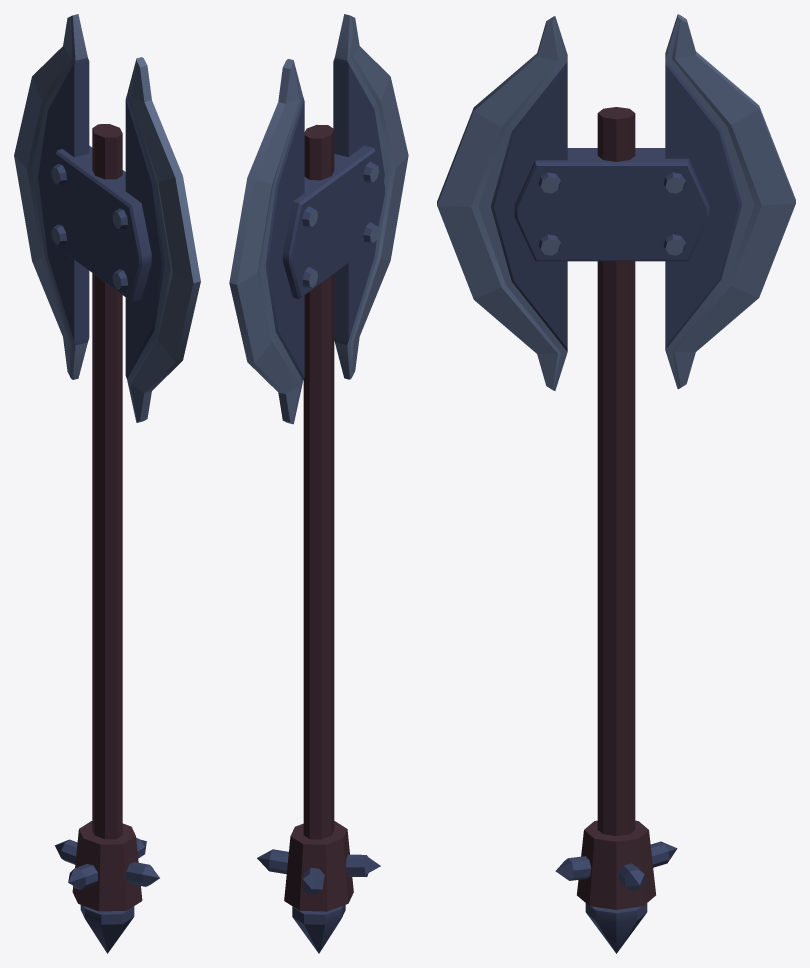
The model's file is Battle_Axe_05.fbx.
3 renders of one model, left to right at view 1: azimuth 30°, elevation 25°; view 2: azimuth 150°, elevation 25°; view 3: azimuth 270°, elevation 25°, orthographic. The views are drawn at different scales.
Parts seen in each view (by area): view 1: Battle Axe 05.001; view 2: Battle Axe 05.001; view 3: Battle Axe 05.001.
Part boxes in pixels (x1,y1,x2,y2): Battle Axe 05.001: (14, 14, 200, 953); Battle Axe 05.001: (229, 14, 408, 953); Battle Axe 05.001: (437, 14, 795, 953).
Bounding box in the file's own units: 13.6 × 117 × 40.68.
